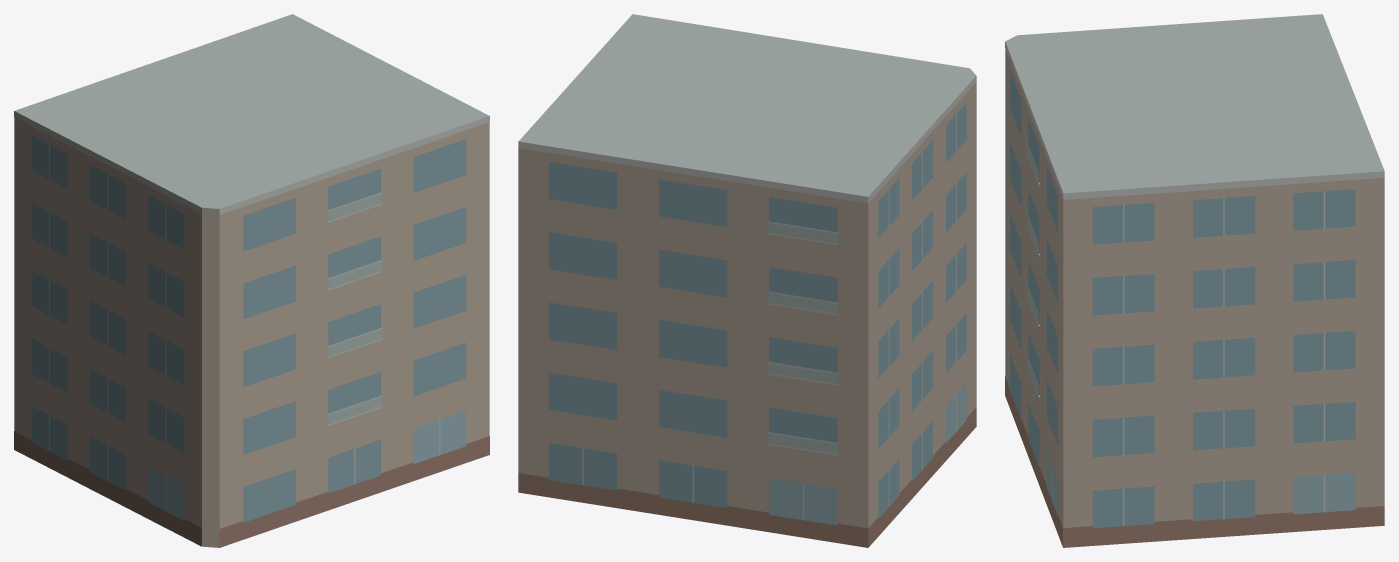
The model's file is survey-upis-32916871.glb.
The picture shows the model from 3 angles, left to right: view 1: azimuth 30°, elevation 25°; view 2: azimuth 150°, elevation 25°; view 3: azimuth 270°, elevation 25°; orthographic projection. The views are drawn at different scales.
Parts seen in each view (by area): view 1: survey-upis-32916871.tmp; view 2: survey-upis-32916871.tmp; view 3: survey-upis-32916871.tmp.
Part boxes in pixels (x1,y1,x2,y2): survey-upis-32916871.tmp: (14,14,489,547); survey-upis-32916871.tmp: (518,14,976,547); survey-upis-32916871.tmp: (1005,14,1384,547).
Size of the model in its own units: 14.45 by 13.3 by 12.92.
